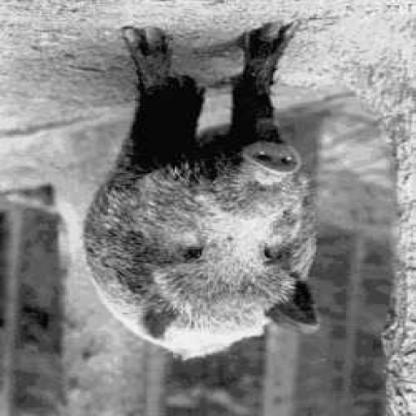boar: (88, 4, 333, 387)
